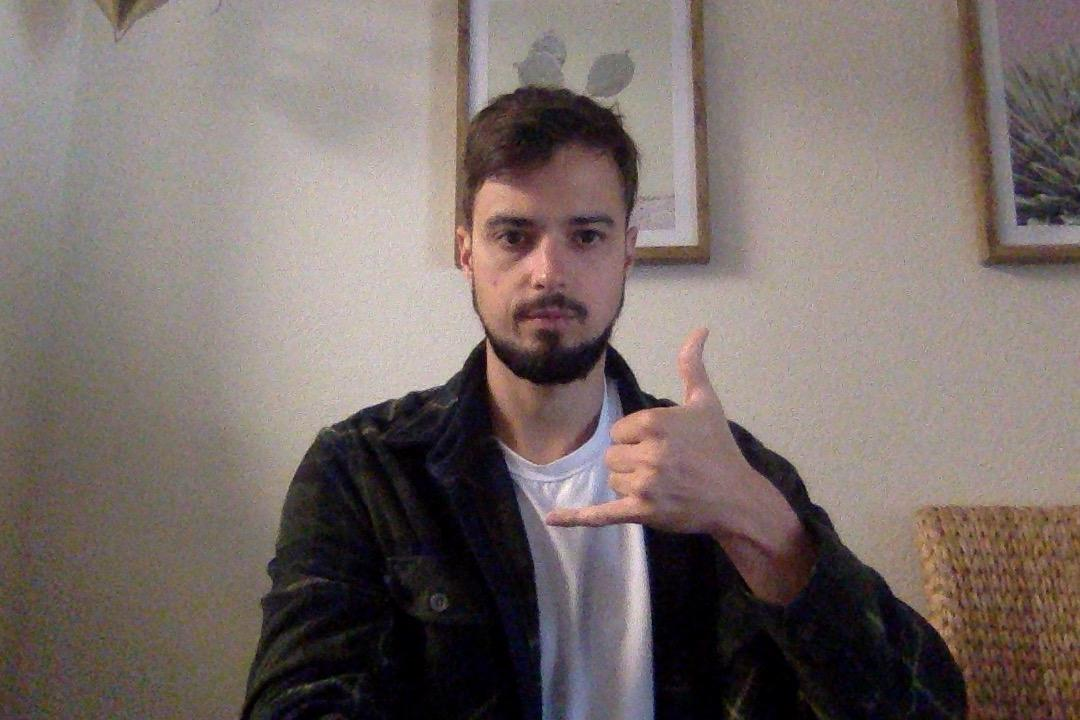Call-Me: (546, 325, 769, 556)
